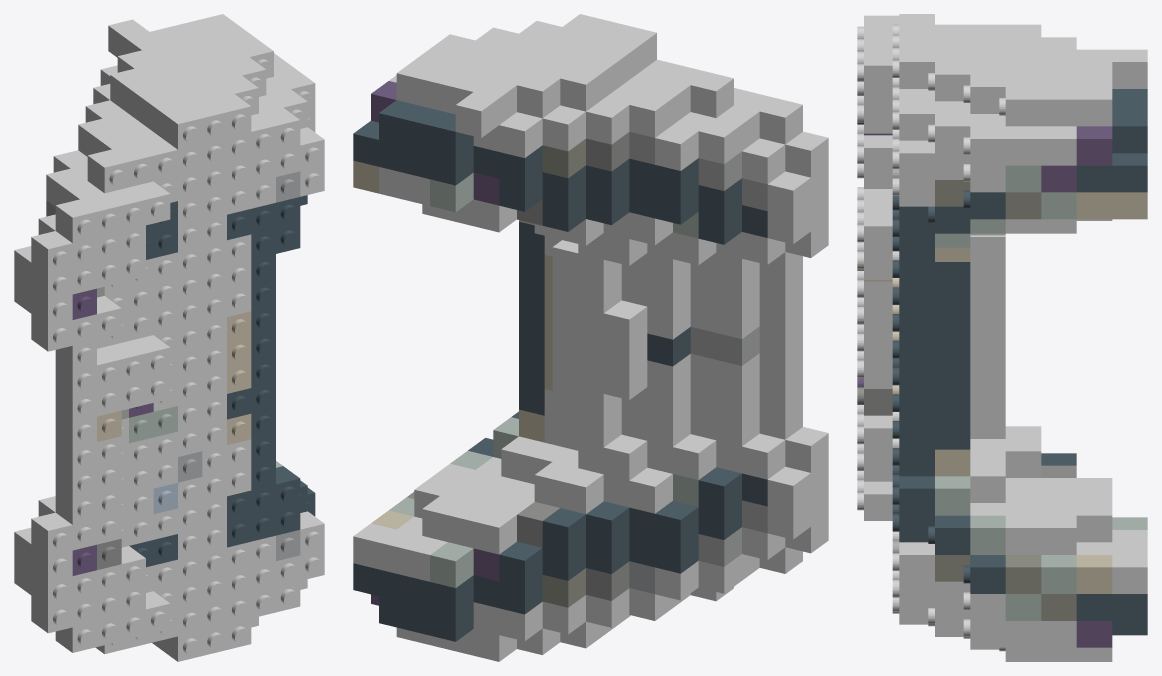
The model's file is full.glb.
3 renders of one model, left to right at view 1: azimuth 30°, elevation 25°; view 2: azimuth 150°, elevation 25°; view 3: azimuth 270°, elevation 25°, orthographic. The views are drawn at different scales.
Parts seen in each view (by area): view 1: world; view 2: world; view 3: world.
Part boxes in pixels (x1,y1,x2,y2): world: [14, 14, 324, 661]; world: [353, 14, 828, 661]; world: [857, 14, 1147, 661].
Size of the model in its own units: 104 by 168 by 78.6.
